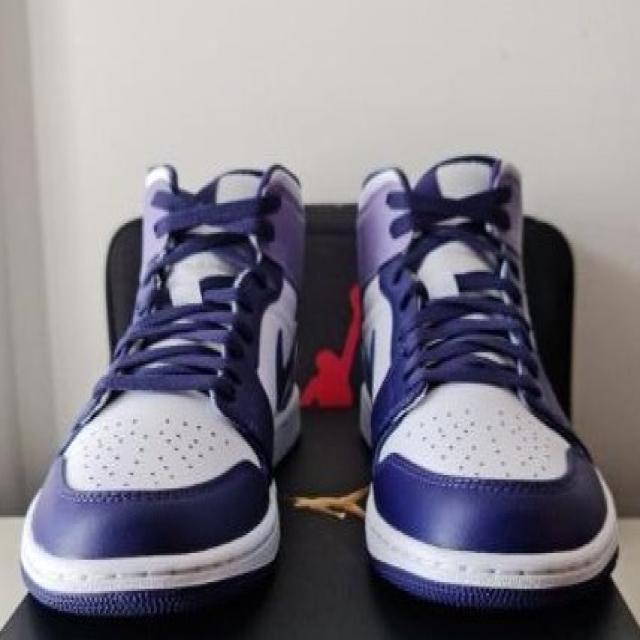J1_MateComp: (18, 161, 308, 618), (352, 152, 620, 610)
J1_ShoeLogo: (19, 152, 621, 619), (297, 280, 361, 410), (287, 483, 370, 522)
J1_StitchPattern: (90, 167, 289, 405), (63, 267, 260, 451), (402, 158, 544, 402), (137, 222, 258, 388), (413, 262, 539, 387), (149, 196, 274, 283), (80, 410, 224, 482), (121, 298, 238, 381), (104, 334, 229, 388), (419, 313, 522, 363)
